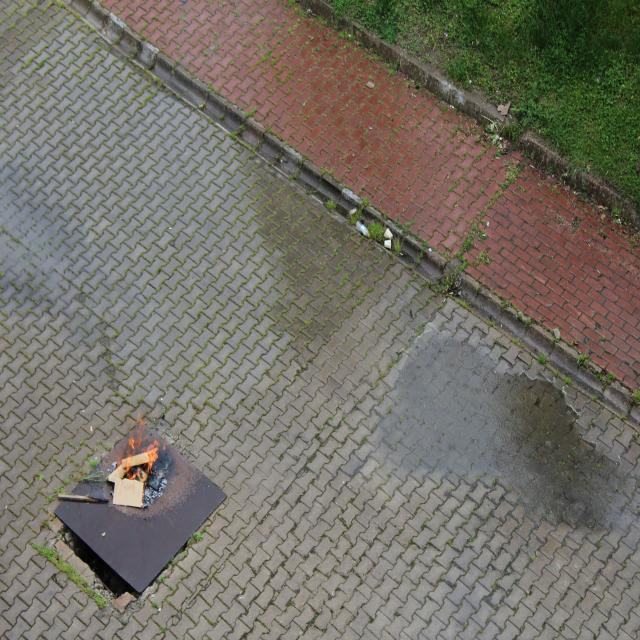fire: (120, 420, 160, 482)
